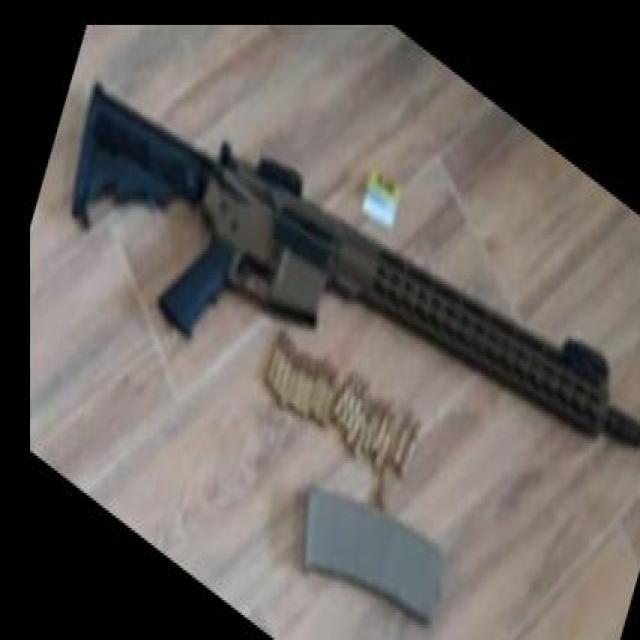weapon: (69, 79, 640, 452)
